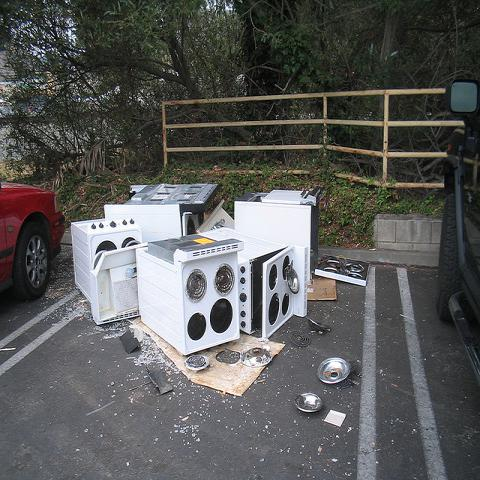car: (434, 80, 480, 384), (0, 183, 67, 303)
